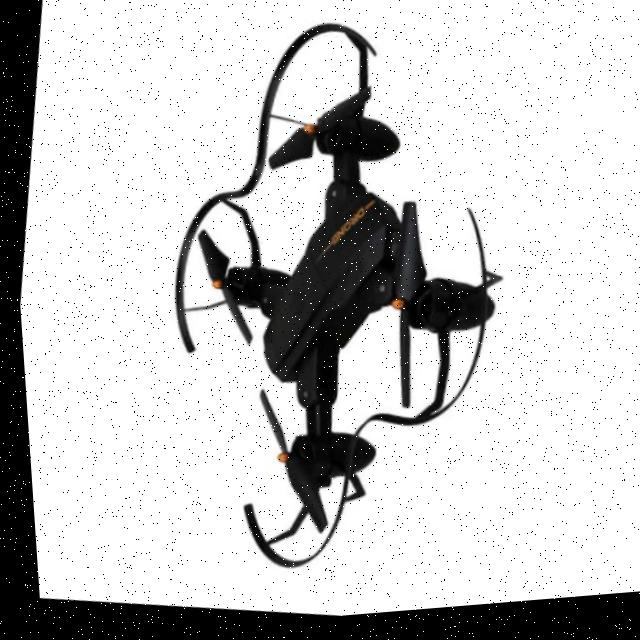drones: (102, 0, 577, 634)
